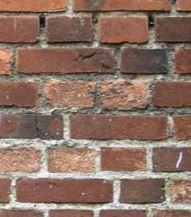brick: (68, 112, 170, 142), (15, 47, 115, 76), (16, 176, 115, 203), (1, 114, 65, 141), (100, 13, 150, 45), (118, 47, 171, 75), (47, 81, 98, 110), (46, 146, 97, 174), (46, 14, 94, 43), (101, 81, 149, 110), (99, 144, 148, 172), (118, 177, 166, 203), (1, 145, 43, 174), (1, 14, 41, 44), (153, 79, 191, 110), (149, 146, 191, 172), (1, 80, 41, 106), (155, 15, 191, 43)
